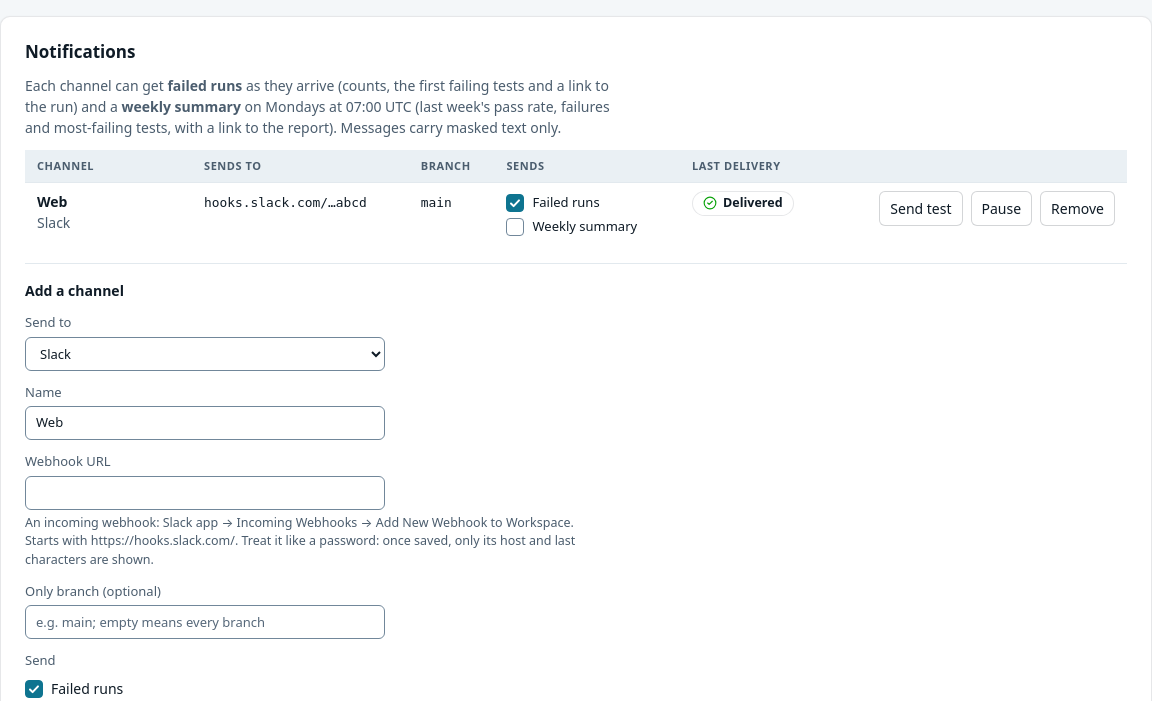
Test: send test shows the outcome next to the channel
Expected: the text "hooks.slack.com/…abcd" is shown, x1=204 y1=195 x2=367 y2=210
Click the button with aria-label "send a test message to web" at (921, 209), box x1=879 y1=191 x2=962 y2=226
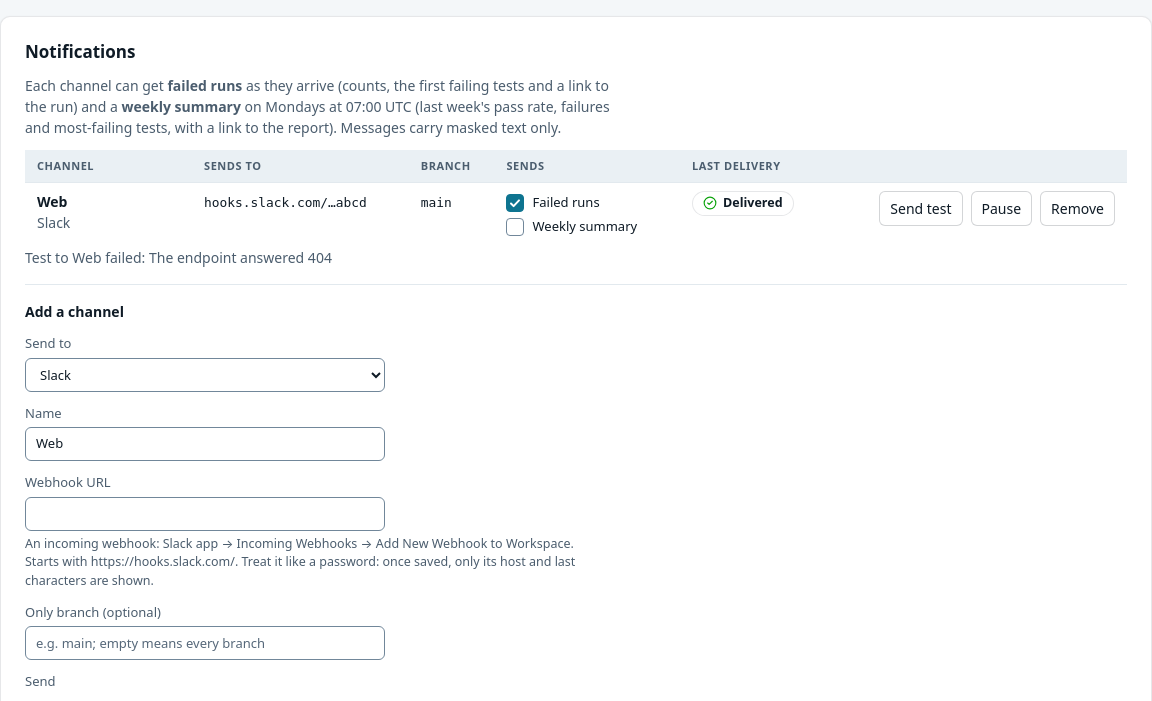
Now the message reads "Test to Web failed: The endpoint answered 404", box x1=25 y1=248 x2=332 y2=267
